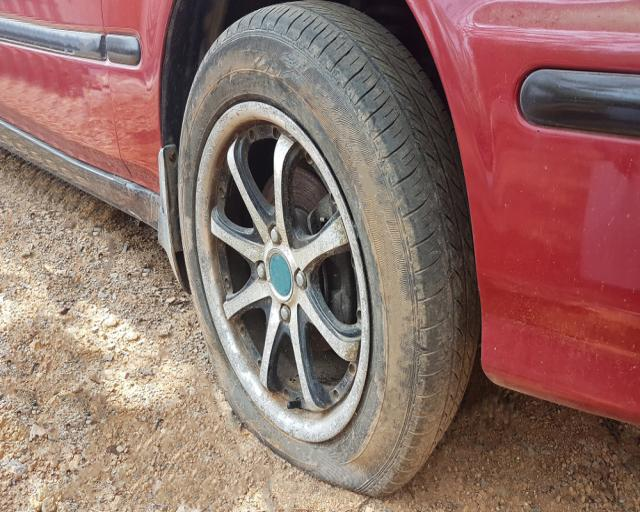tire flat: (178, 0, 481, 497)
